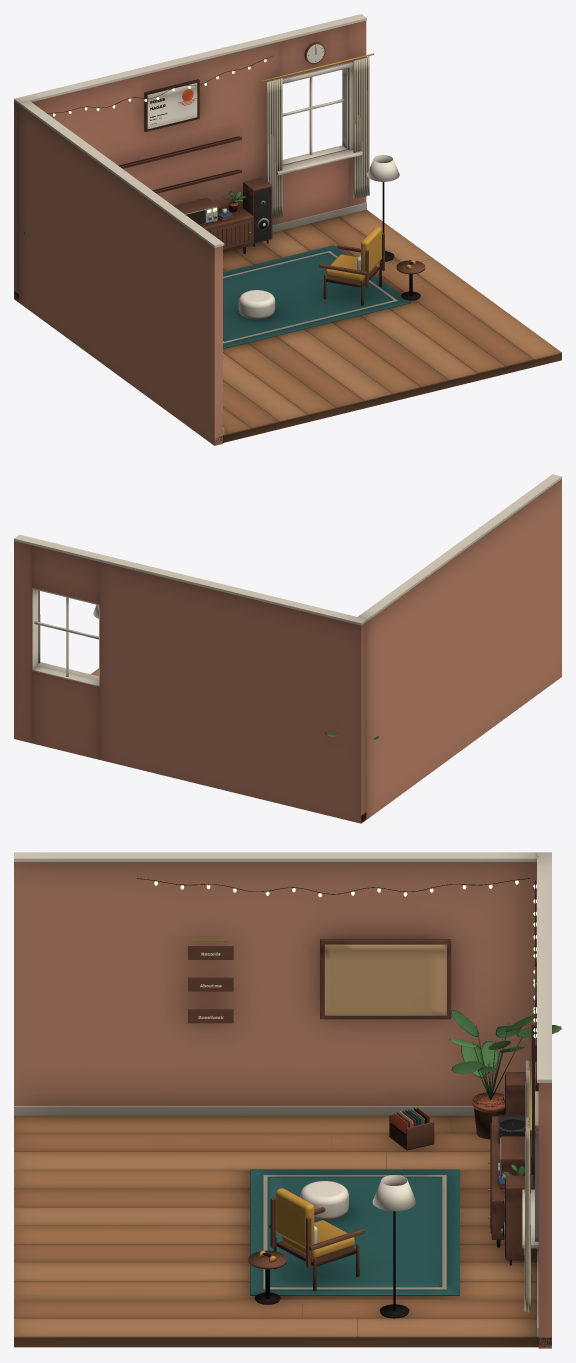
The model's file is room.glb.
The picture shows the model from 3 angles, top to bottom: view 1: azimuth 30°, elevation 25°; view 2: azimuth 150°, elevation 25°; view 3: azimuth 270°, elevation 25°; orthographic projection. The views are drawn at different scales.
Parts seen in each view (by area): view 1: wall_left, floor, wall_back, rug, trim, window_frame, floor_slab, curtain_r, poster, curtain_l, chair_frame, pouf (+8 smaller); view 2: wall_back, wall_left, trim, window_frame; view 3: wall_left, floor, rug, trim, board, floor_slab, wall_back, plant_big_leaves, chair_frame, chair_back, spk_r_cabinet, credenza_body (+15 smaller).
Boxes of the visible parts, box(x1,y1,x2,y2) form: wall_left: box(19, 105, 222, 445); floor: box(223, 209, 561, 435); wall_back: box(14, 20, 366, 302); rug: box(223, 245, 411, 348); trim: box(14, 14, 366, 434); window_frame: box(276, 62, 362, 175); floor_slab: box(14, 291, 561, 444); curtain_r: box(353, 56, 369, 198); poster: box(144, 79, 199, 131); curtain_l: box(266, 77, 282, 219); chair_frame: box(319, 233, 385, 305); pouf: box(238, 290, 275, 319); wall_back: box(14, 541, 366, 823); wall_left: box(366, 479, 561, 819); trim: box(14, 474, 561, 625); window_frame: box(32, 588, 99, 686); wall_left: box(14, 862, 536, 1105); floor: box(14, 1115, 538, 1337); rug: box(250, 1169, 459, 1295); trim: box(14, 852, 551, 1336); board: box(320, 939, 451, 1019); floor_slab: box(14, 1337, 551, 1347); wall_back: box(538, 1083, 551, 1348); plant_big_leaves: box(449, 1010, 561, 1100); chair_frame: box(269, 1198, 364, 1291); chair_back: box(275, 1188, 314, 1248); spk_r_cabinet: box(505, 1175, 533, 1260); credenza_body: box(491, 1116, 534, 1239).
Size of the model in its own units: 6.28 by 3.39 by 6.27.
